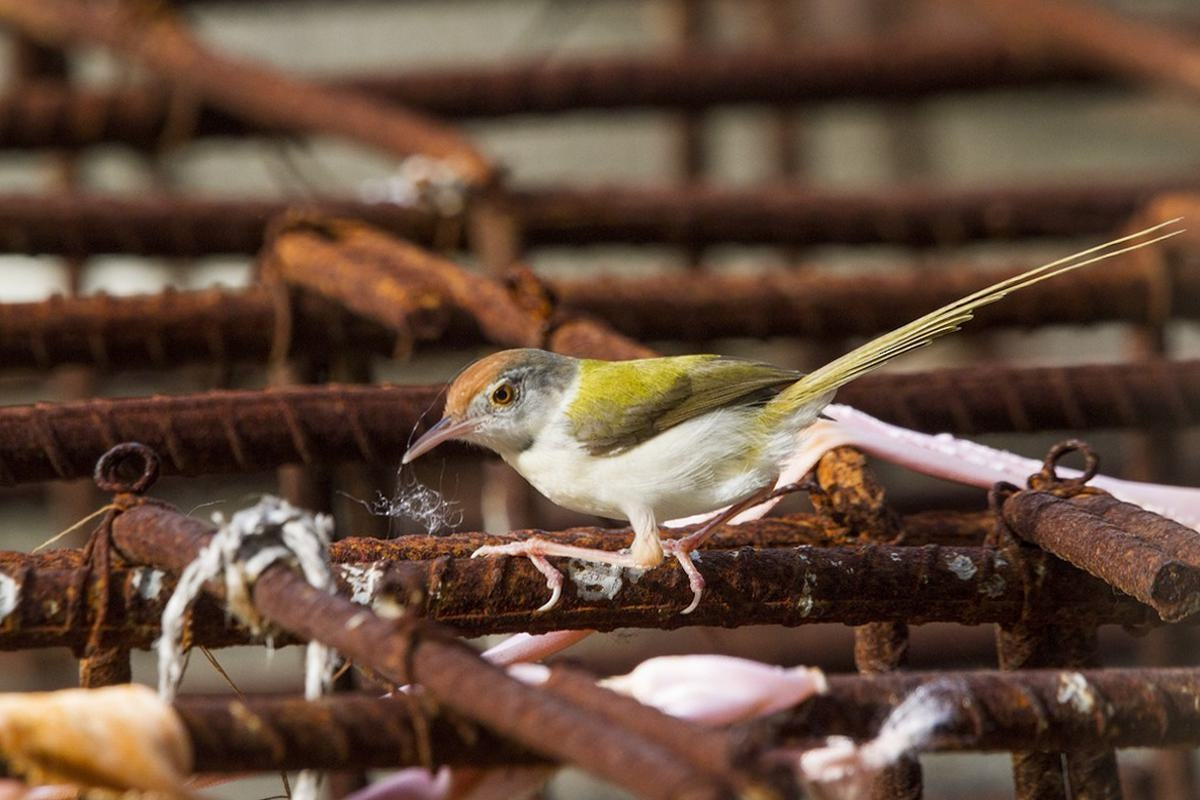tailorbird: (414, 201, 1175, 575)
